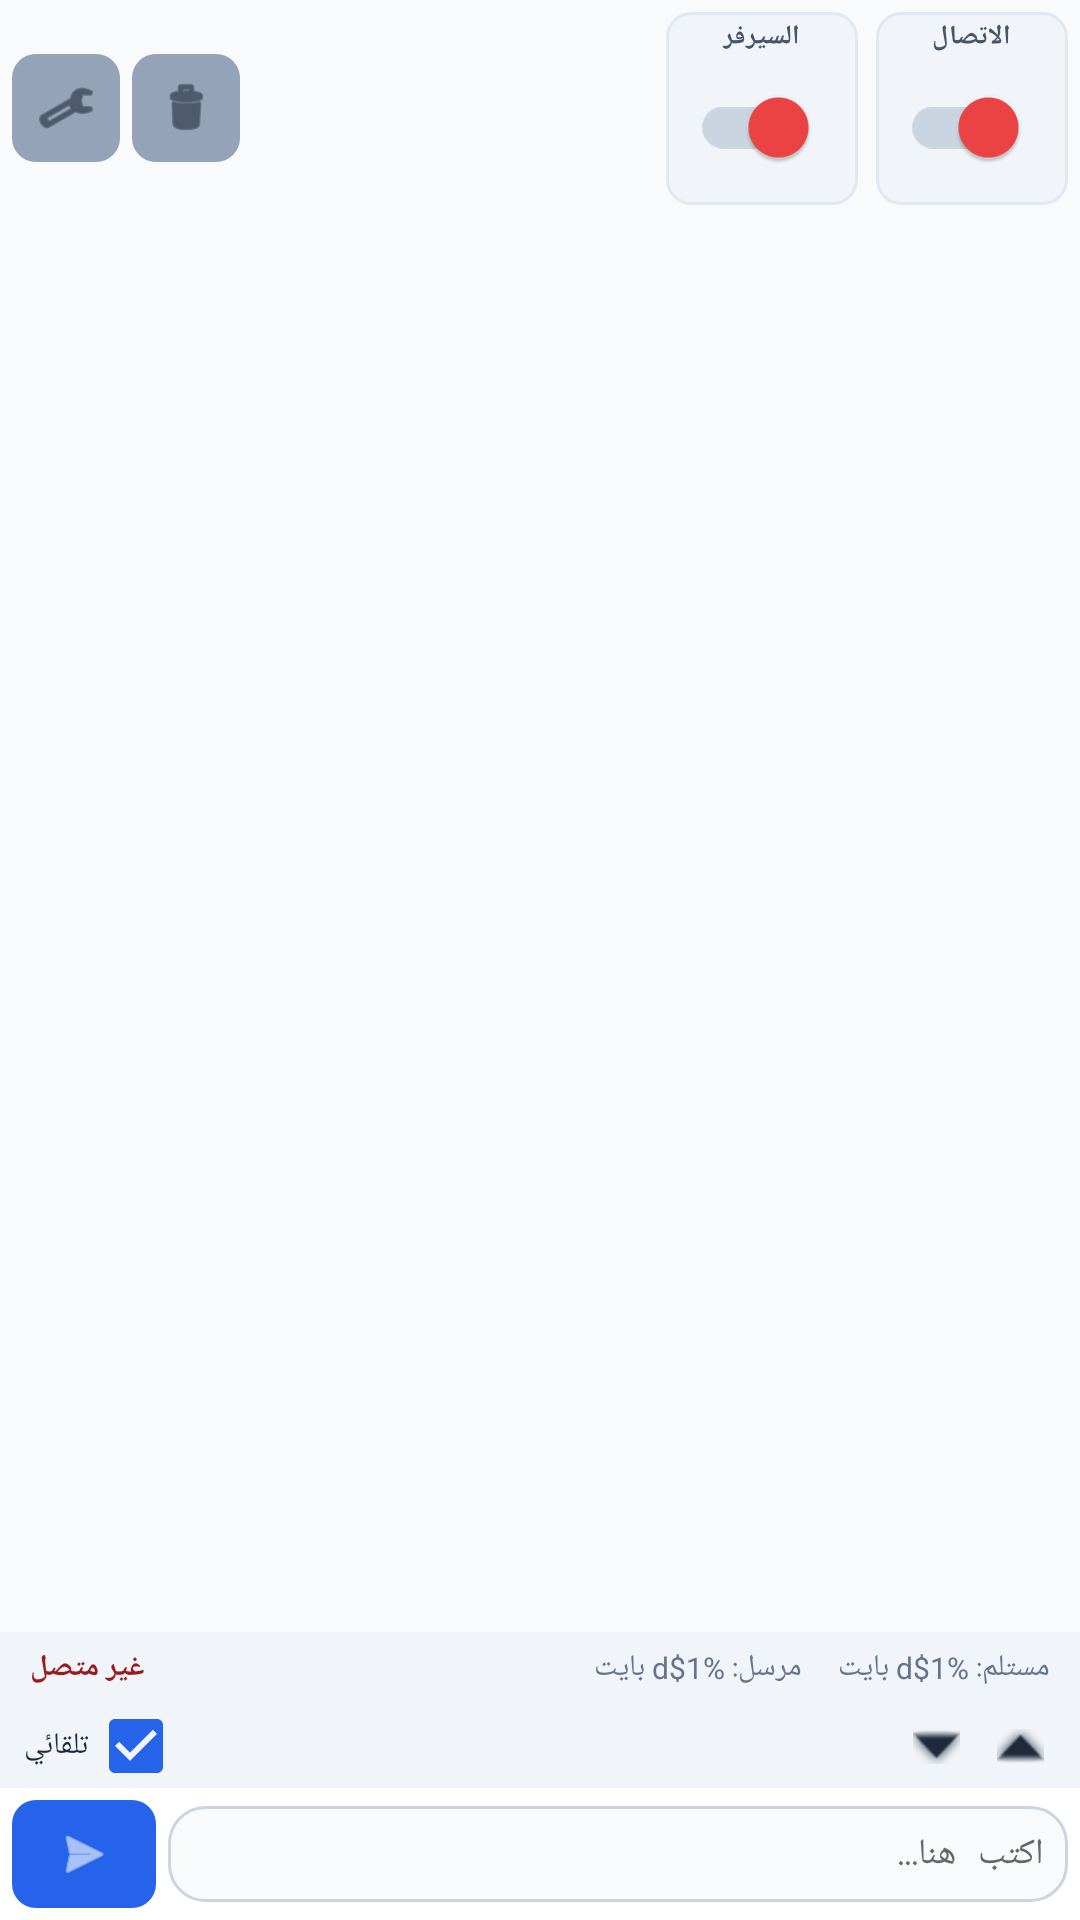

Named icons in this screenshot (1080x1920) and their bounding boxes, (x1, y1, x2, y2):
arrow down float: (913, 1731, 960, 1762)
arrow up float: (997, 1731, 1044, 1762)
إرسال: (12, 1800, 156, 1908)
الإعدادات: (12, 54, 120, 162)
مسح: (132, 54, 240, 162)
